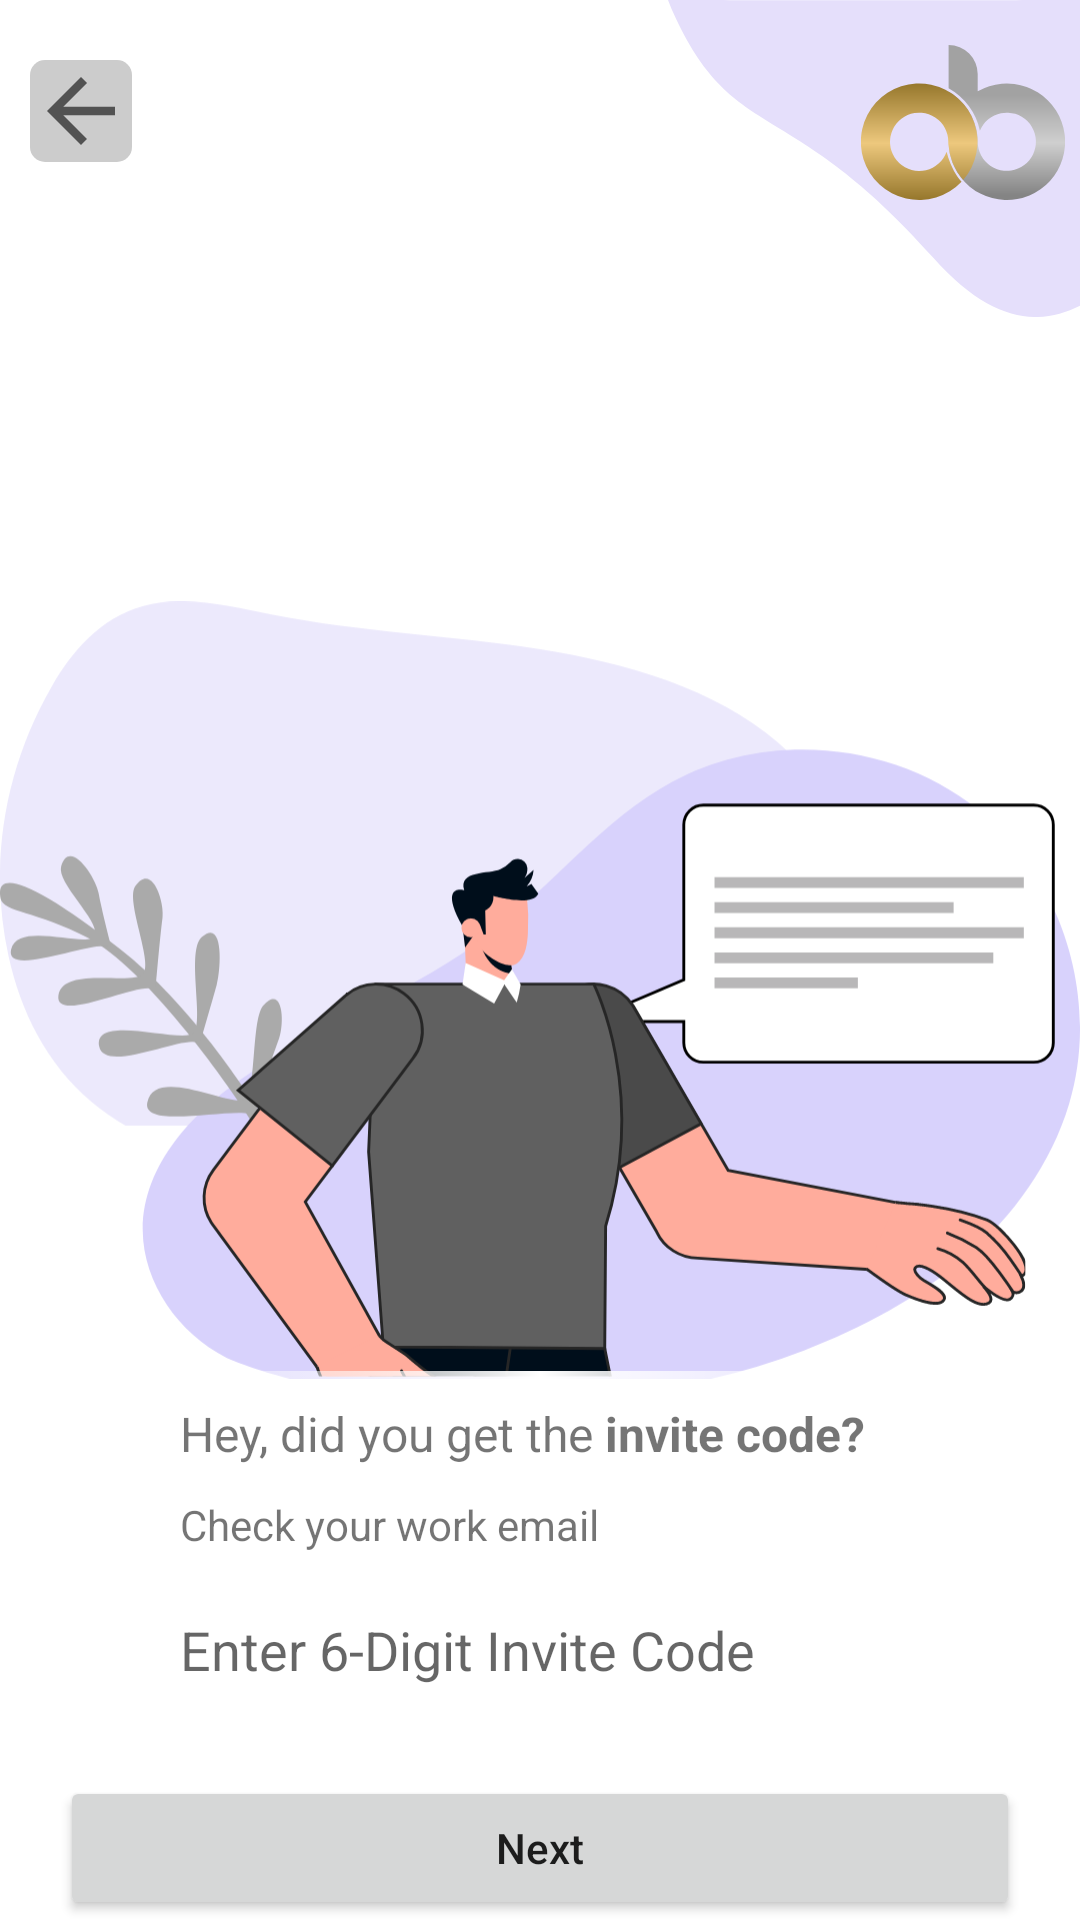

Point at icon controls on the screen. Image size 1080px x 1920px, points as [x,y].
back: [81,111]
